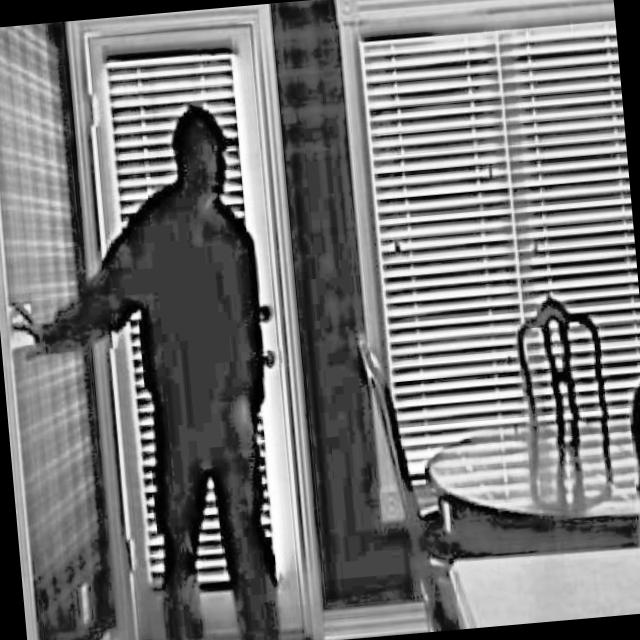Person: (0, 89, 292, 640)
